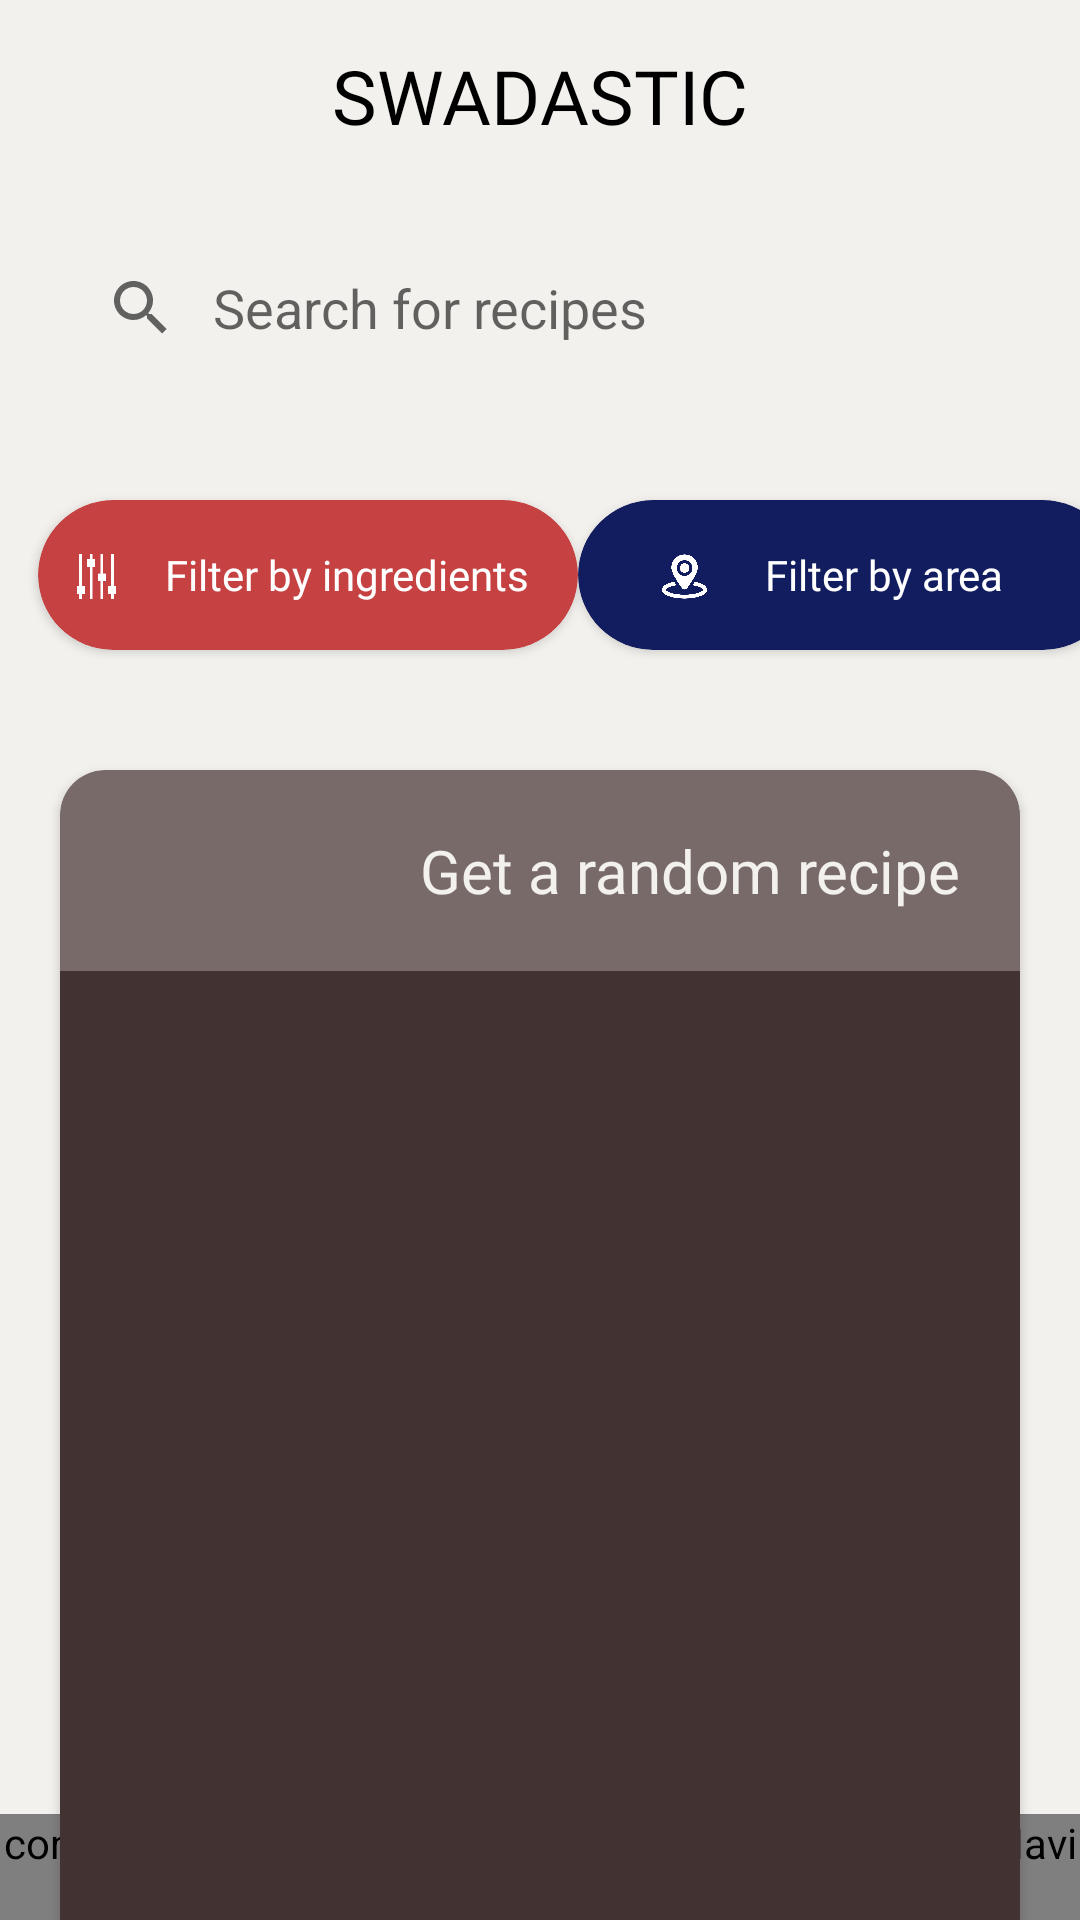

Locate icon controls on the screen. Image size 1080x1920, boxes as (x1, y1, x2, y2).
location: (662, 554, 707, 599)
